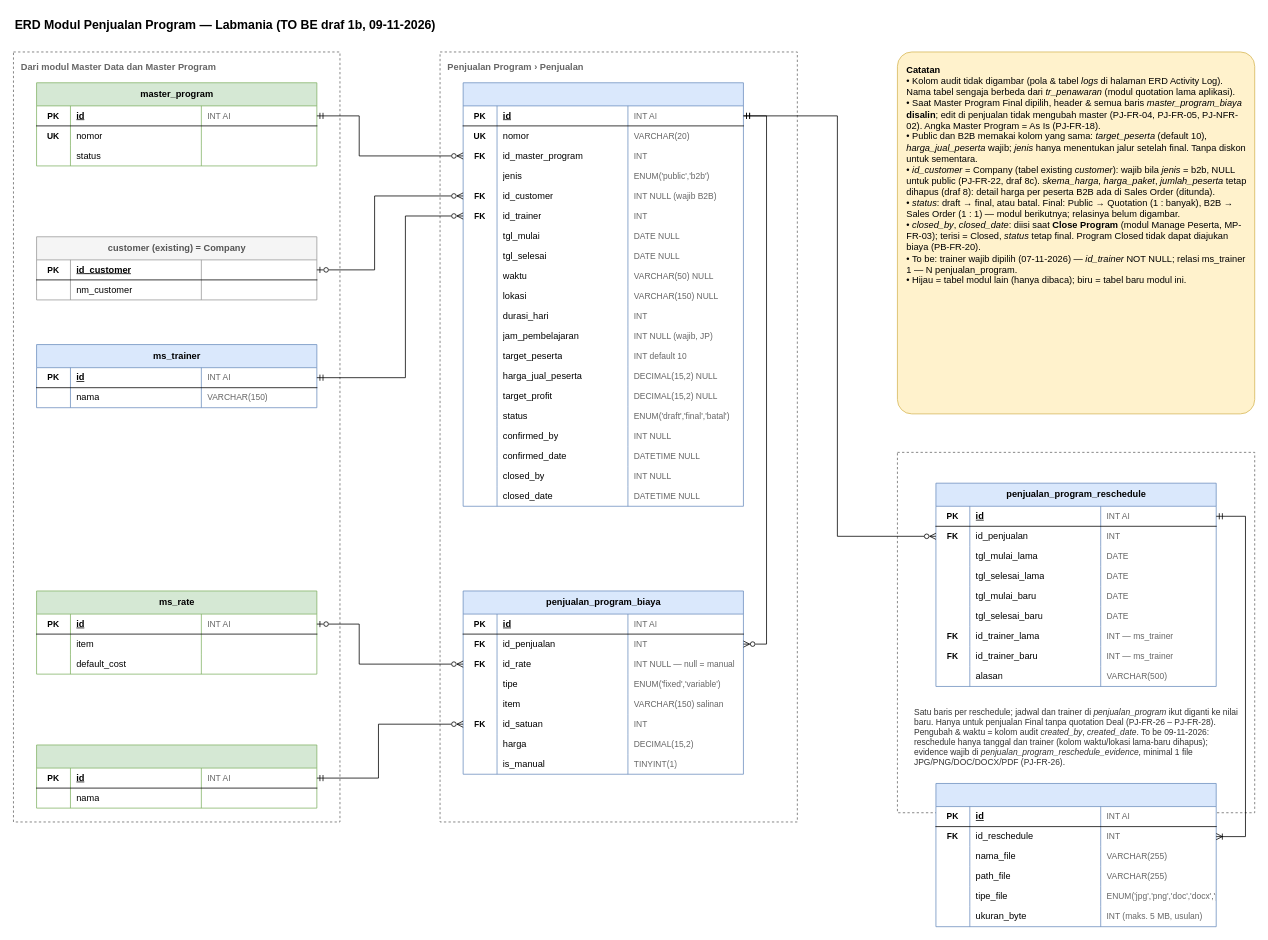
Some shapes in this 1268 by 940 pixel diagram are drawn without their labels. The box of each missing label's shape, as (x1, y1, x2, y2) in pixels:
ms_satuan: (36, 744, 317, 808)
Penjualan Program › Reschedule (to be): (897, 452, 1255, 813)
penjualan_program: (462, 82, 743, 506)
penjualan_program_reschedule_evidence: (935, 783, 1216, 927)
